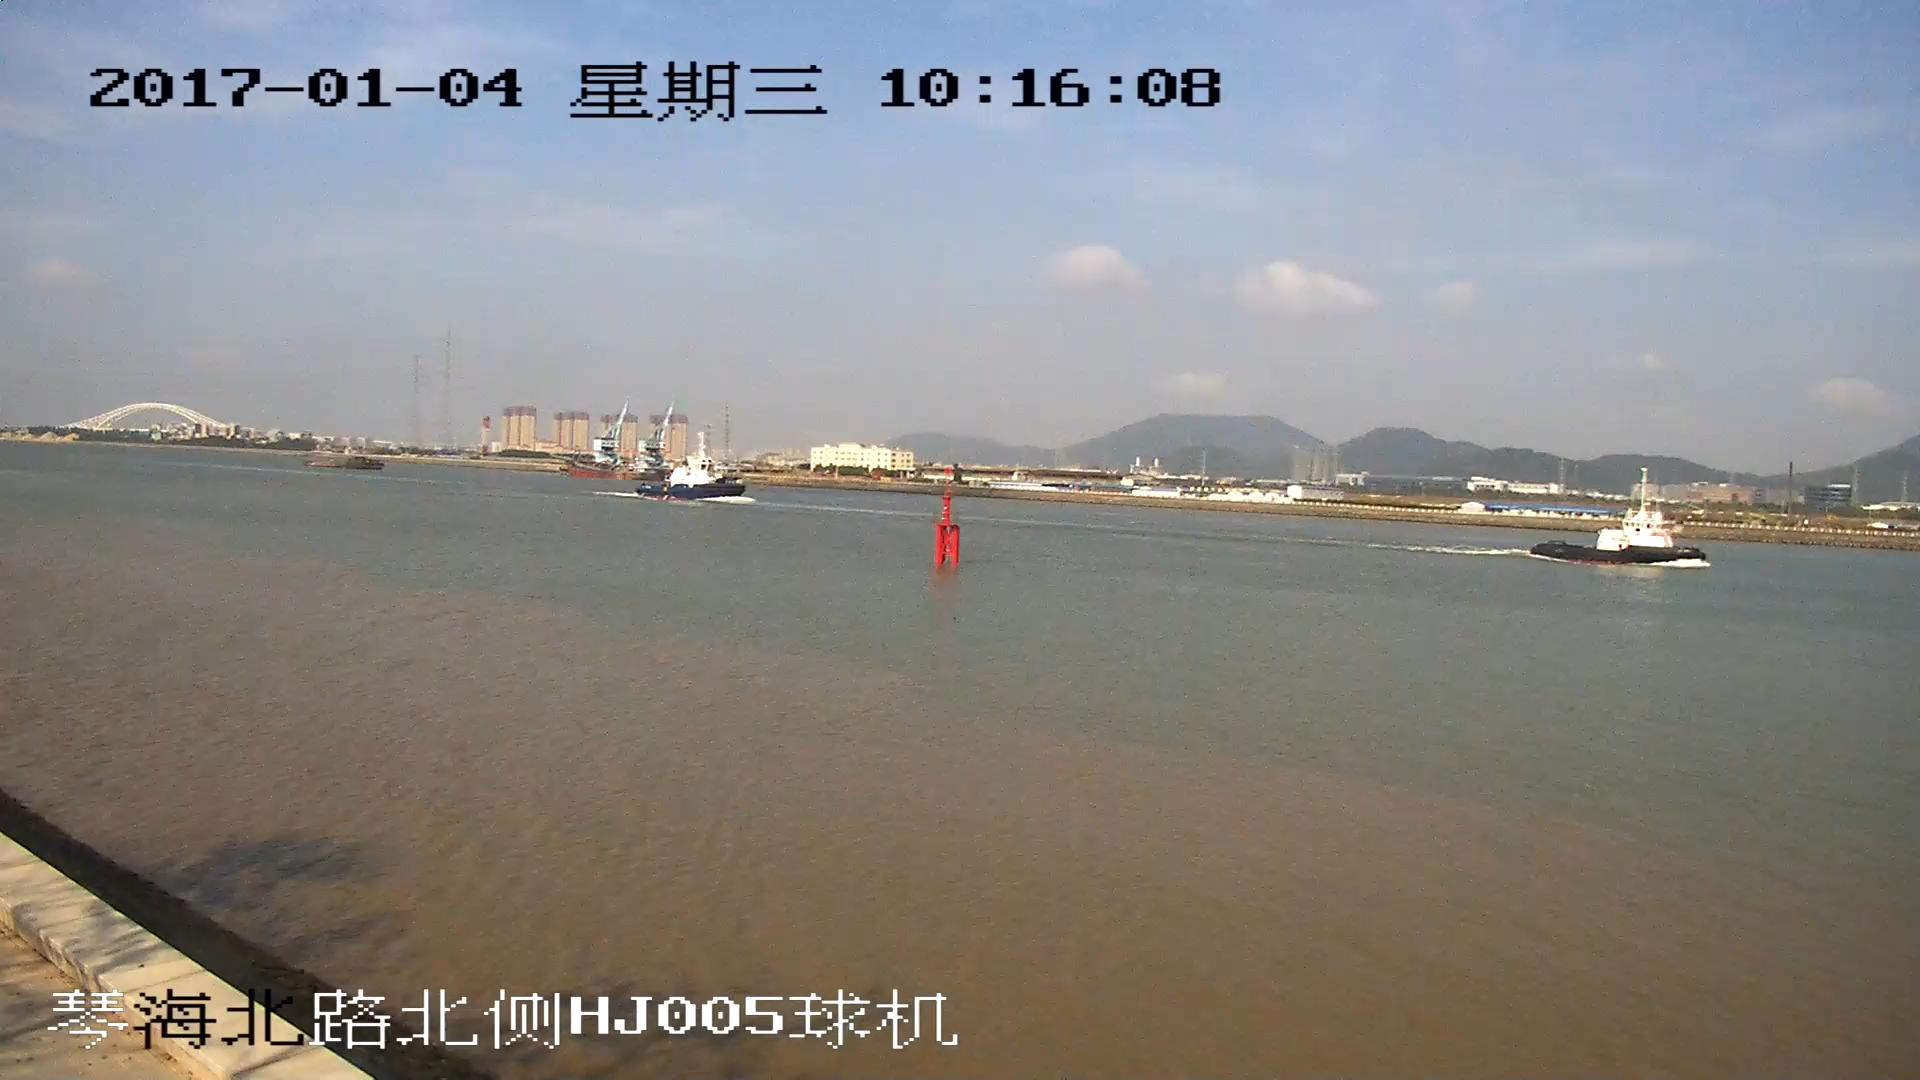passenger ship: (1532, 507, 1707, 564), (644, 461, 744, 502)
